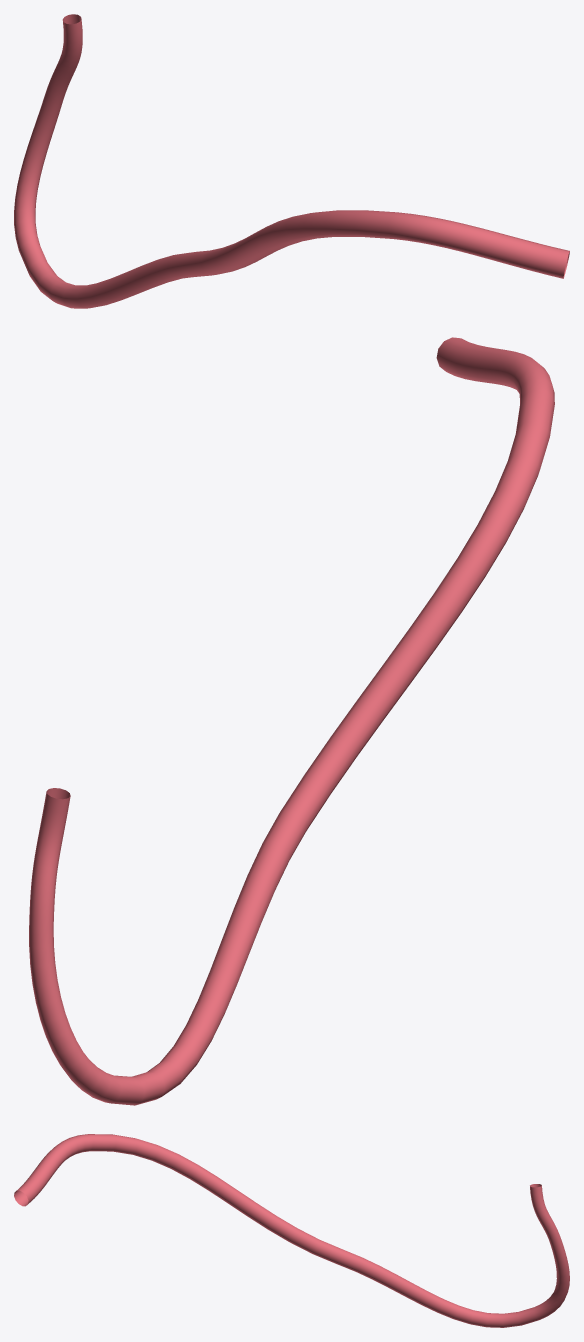
3 views of the same model, one above another, from view 1: azimuth 30°, elevation 25°; view 2: azimuth 150°, elevation 25°; view 3: azimuth 270°, elevation 25° (orthographic). The views are drawn at different scales.
Parts seen in each view (by area): view 1: ZA_8cb182a6889c9d01; view 2: ZA_8cb182a6889c9d01; view 3: ZA_8cb182a6889c9d01.
Boxes of the visible parts, <box> form: ZA_8cb182a6889c9d01: <box>14,14,569,308</box>; ZA_8cb182a6889c9d01: <box>29,337,554,1105</box>; ZA_8cb182a6889c9d01: <box>14,1134,569,1327</box>.
Bounding box in the file's own units: 0.0122 × 0.0217 × 0.0542.
